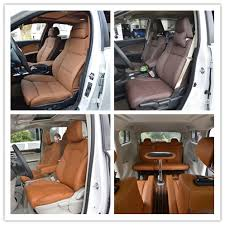seat: (23, 54, 81, 106)
